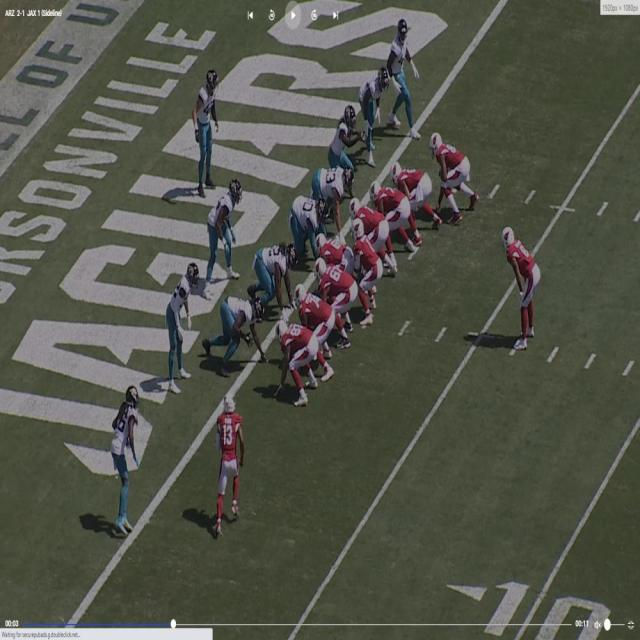center: (318, 234, 356, 267)
db: (110, 381, 144, 539), (508, 224, 540, 346)
lb: (203, 181, 241, 285), (196, 68, 222, 190), (361, 68, 390, 171), (390, 18, 408, 125), (167, 276, 191, 345)
qb: (352, 222, 386, 316), (333, 107, 359, 166)
skill: (430, 134, 481, 218), (277, 318, 322, 402), (217, 396, 243, 536), (394, 161, 439, 224)
